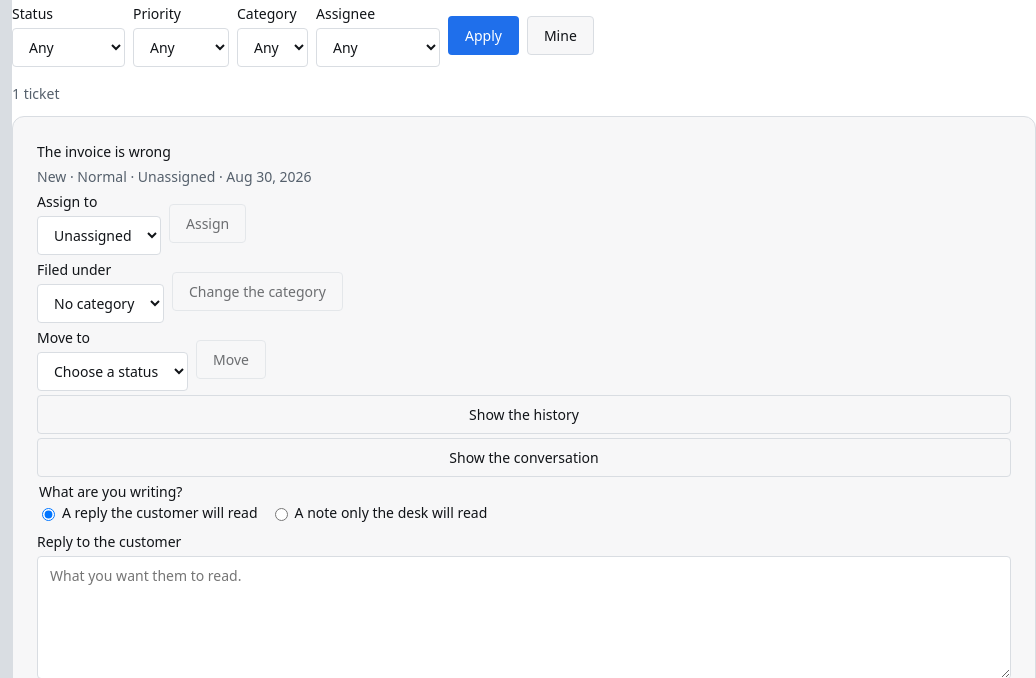
the screen shows what the API sent, and filters nothing
The image size is (1036, 678).
Click the button "Show the conversation": (524,458) x1=37 y1=438 x2=1011 y2=477
(page scrolled)
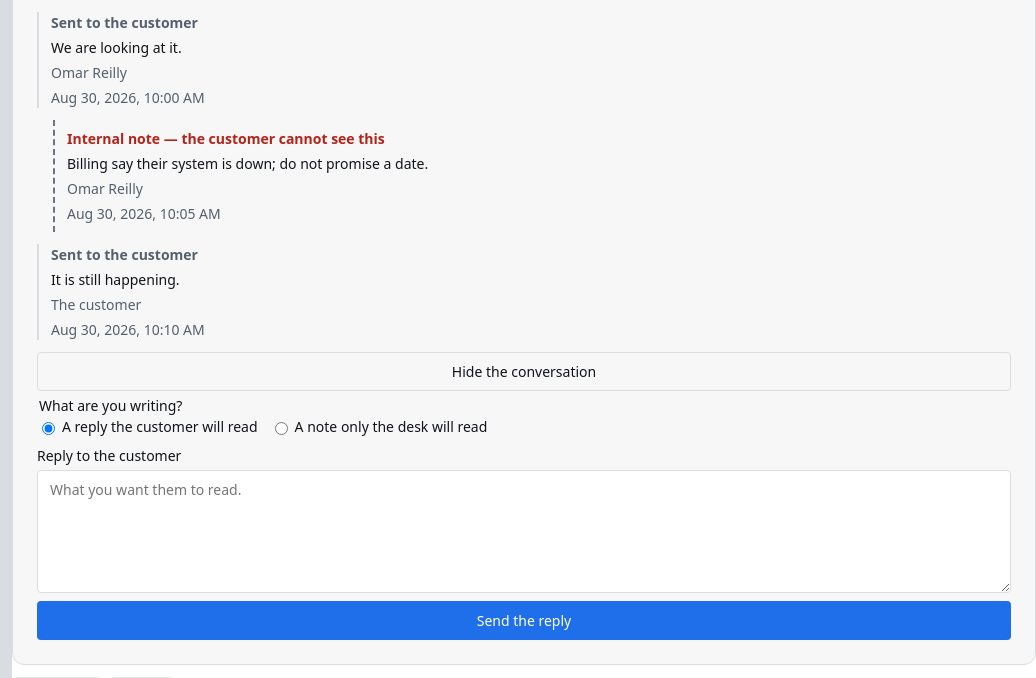
Expected: the number of list items with class "ticket-thread__message" is 3, x1=37 y1=12 x2=1011 y2=108; x1=53 y1=120 x2=1011 y2=232; x1=37 y1=244 x2=1011 y2=340
Expected: the text "Billing say their system is down; do not promise a date." is shown, x1=67 y1=154 x2=428 y2=173
Expected: the text "It is still happening." is shown, x1=51 y1=270 x2=180 y2=289
